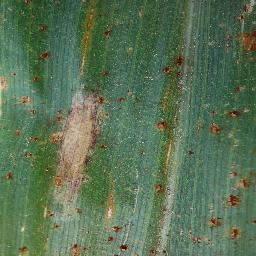Corn_Blight: (58, 70, 112, 213), (184, 166, 254, 246), (16, 226, 168, 254), (14, 14, 51, 117), (5, 127, 49, 186), (205, 81, 249, 138), (151, 114, 177, 198), (160, 55, 193, 84), (240, 4, 256, 59), (80, 0, 93, 62), (50, 124, 58, 223), (206, 29, 239, 50), (115, 83, 134, 108), (102, 20, 119, 40), (1, 68, 9, 100), (11, 0, 45, 6)
